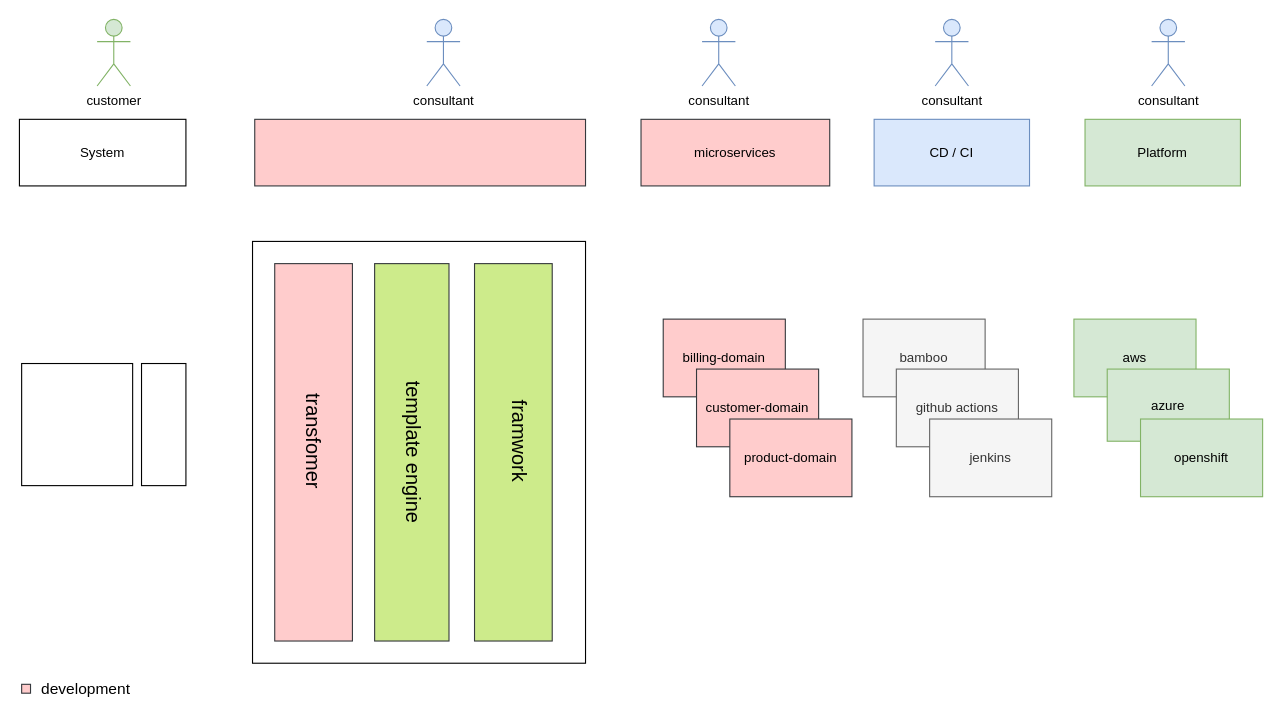
This 1282x725 diagram has some shape labels left out. Each missing label, with the box of its shape:
code base: (140, 362, 186, 486)
Domain designer UI: (254, 118, 586, 186)
runtime: (21, 362, 133, 486)
